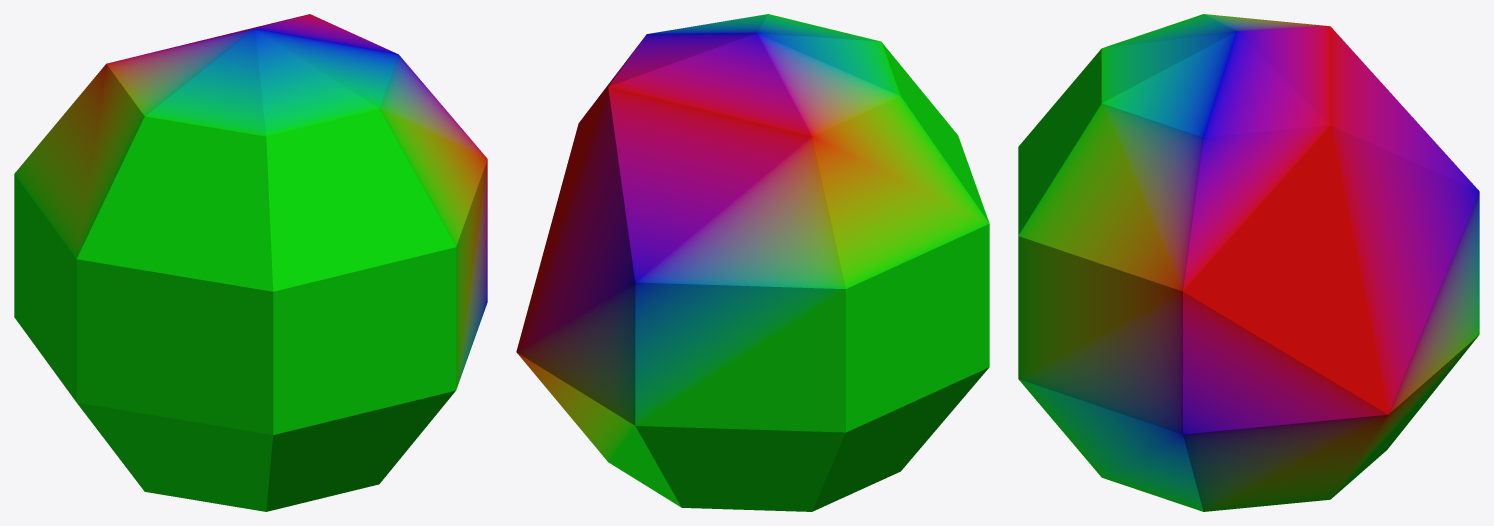
File: after_decimating_conquest_1_3.obj
The picture shows the model from 3 angles, left to right: view 1: azimuth 30°, elevation 25°; view 2: azimuth 150°, elevation 25°; view 3: azimuth 270°, elevation 25°; orthographic projection.
Bounding box in the file's own units: 1.85 × 2 × 1.81.
